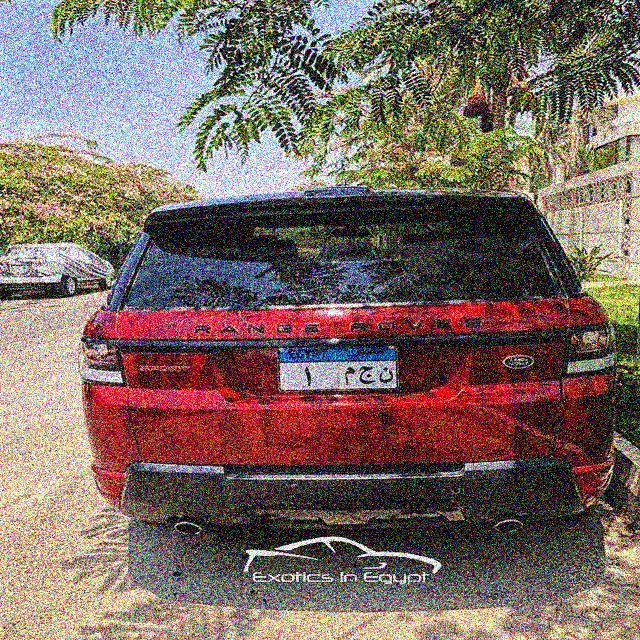License Plate: (272, 342, 404, 393)
